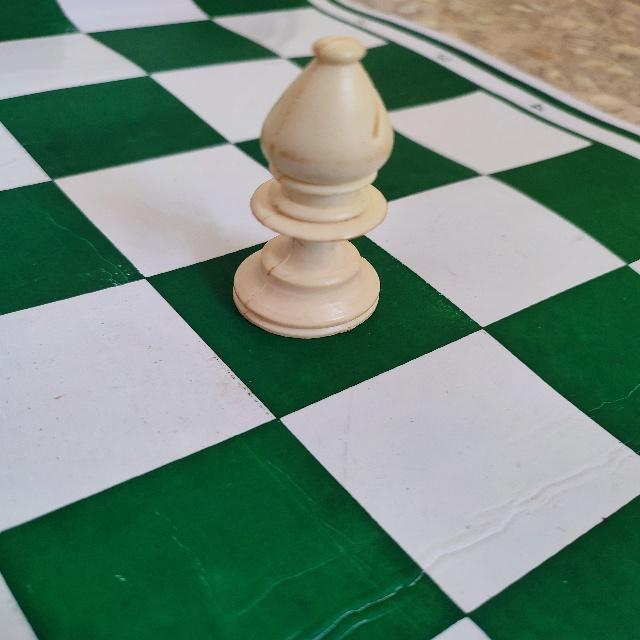Bishop: (222, 33, 400, 346)
